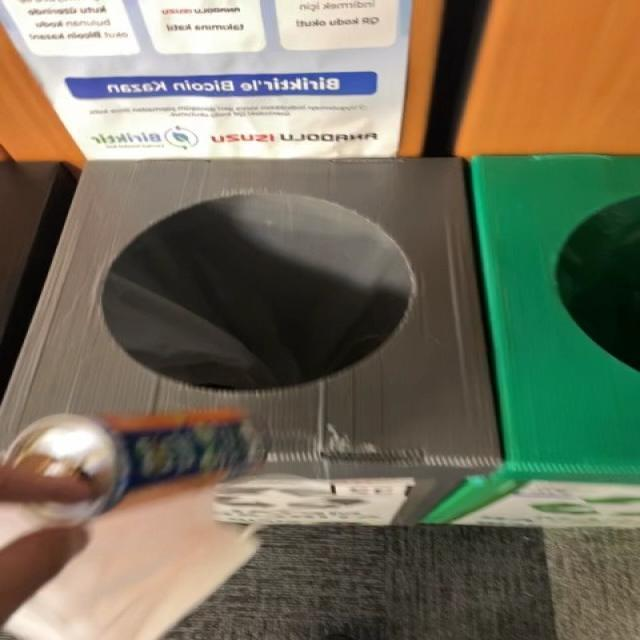Bin: (1, 158, 501, 524)
Metal: (0, 409, 265, 546)
